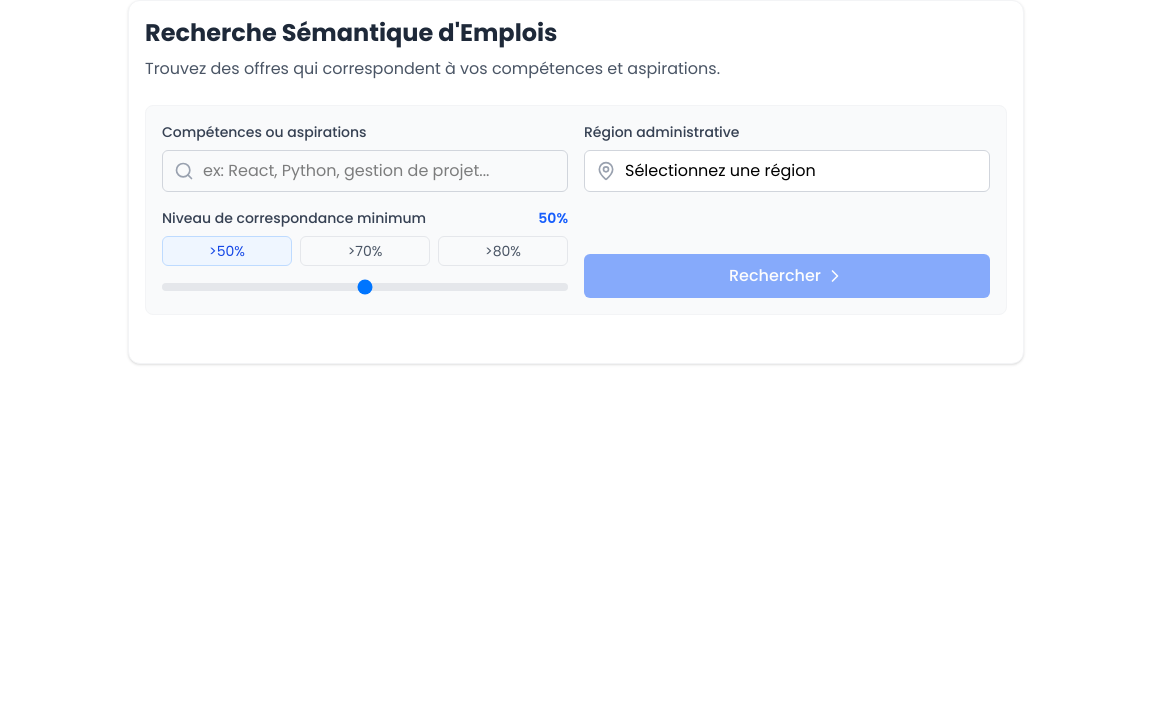
JobSemanticMatcher › handles API response and renders job cards with similarity score percentage
Type "React Developer" into the field with placeholder "ex: React, Python, gestion de projet...".
click(365, 171); type("React Developer")  # box [162,150,568,192]
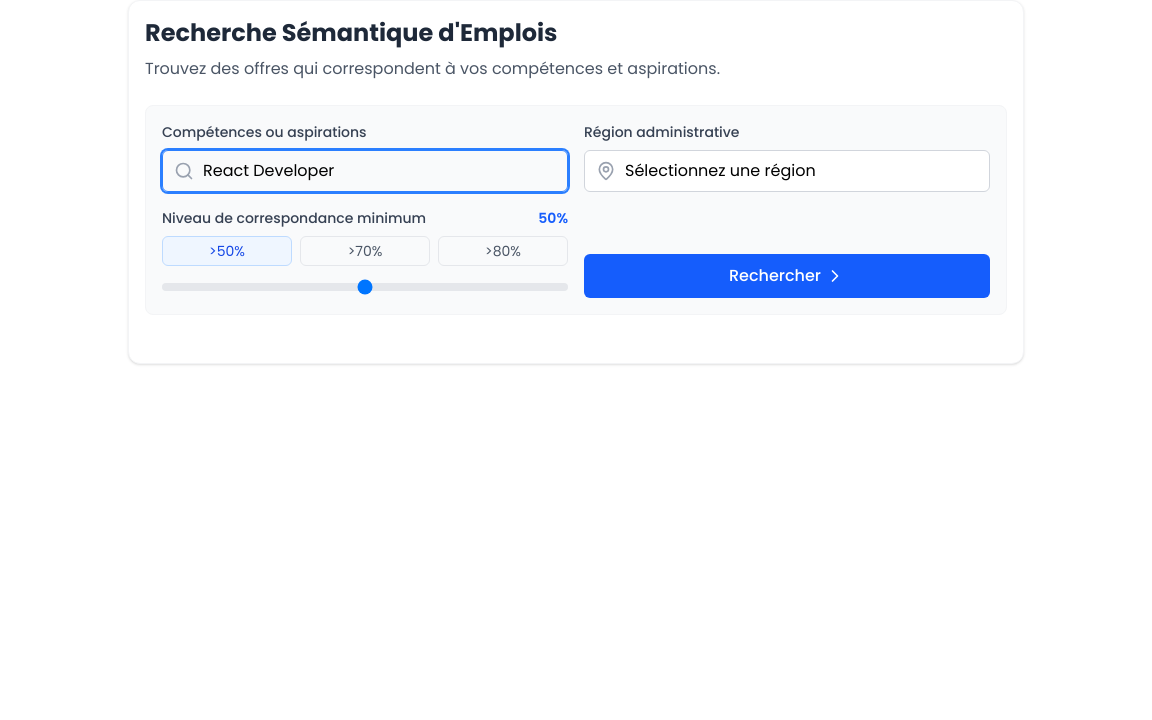
Click the button "Rechercher".
click(787, 276)  # box [584,254,990,298]
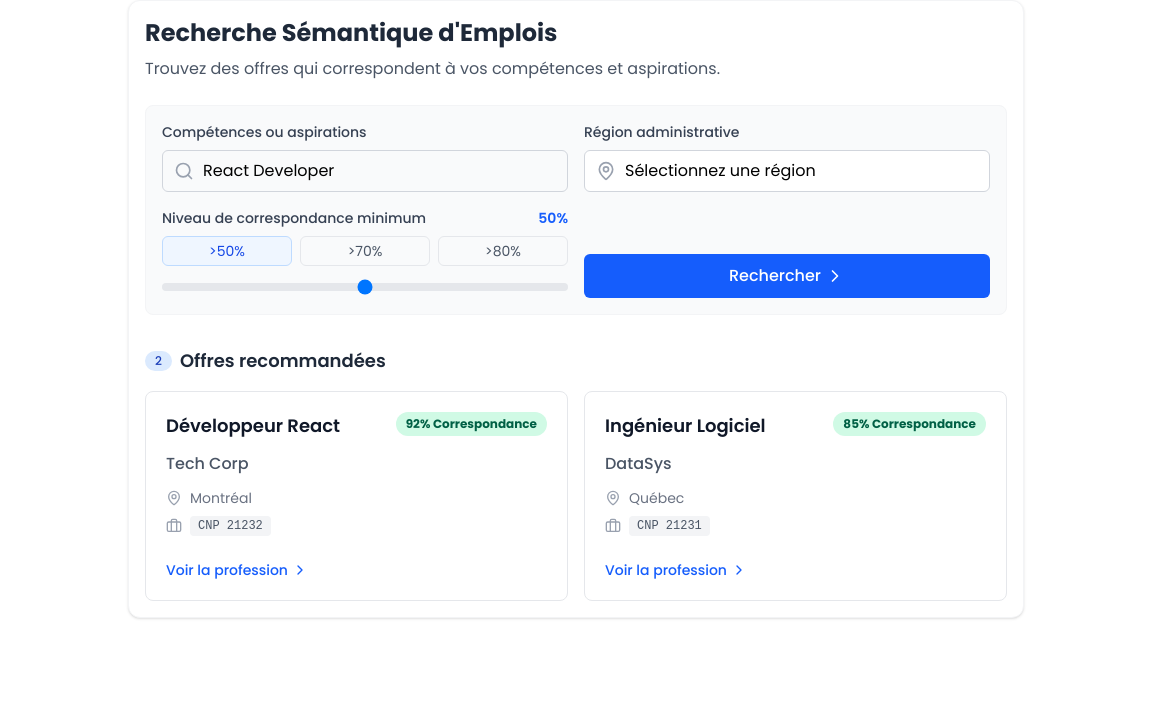
Expected: the heading "Développeur React" is shown, [166,412,348,440]
Expected: the text "92% Correspondance" is shown, [396,412,547,436]
Expected: the heading "Ingénieur Logiciel" is shown, [605,412,774,440]
